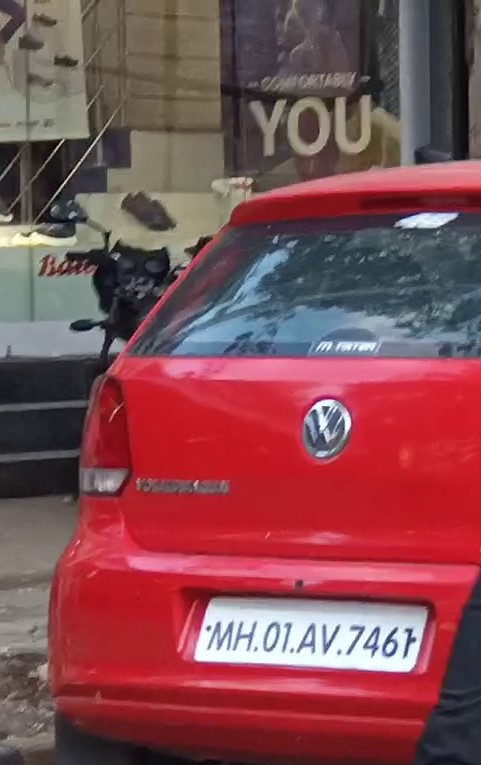MH01AV7461: (194, 593, 428, 673)
